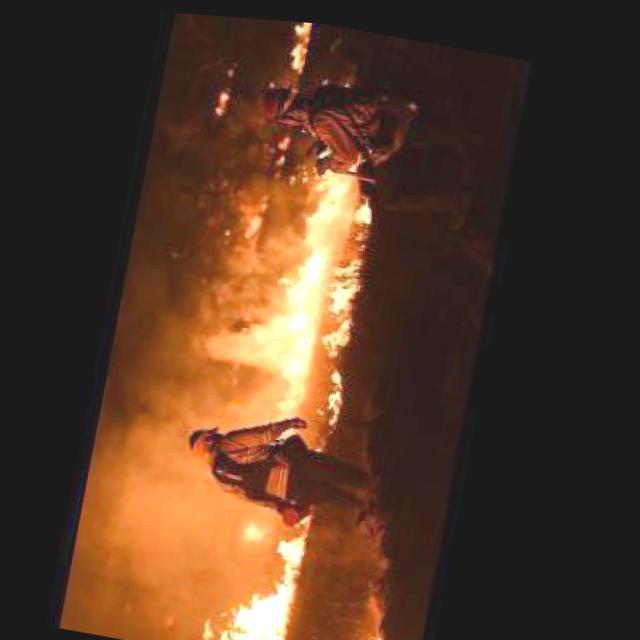helmet: (183, 119, 390, 449), (216, 492, 322, 640)
no_helmet: (65, 380, 265, 640)
